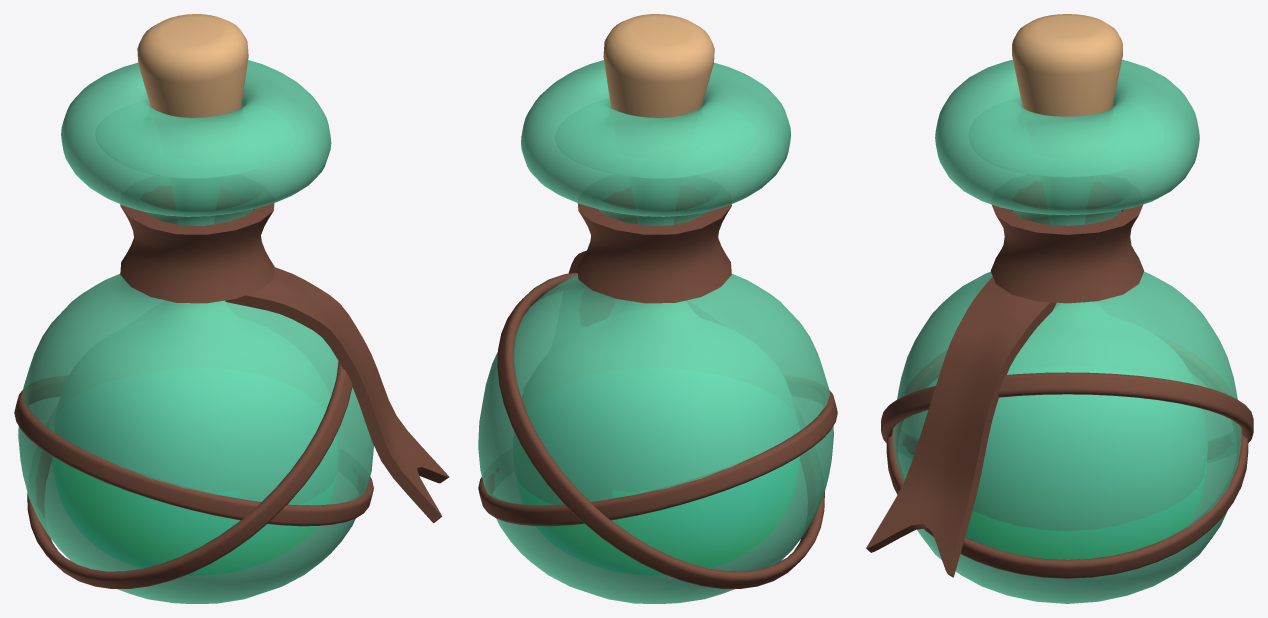
Rendered from Potion1.fbx.
The picture shows the model from 3 angles, left to right: view 1: azimuth 30°, elevation 25°; view 2: azimuth 150°, elevation 25°; view 3: azimuth 270°, elevation 25°; orthographic projection.
Parts seen in each view (by area): view 1: bottle, strip1, contents, strip2, cork, ribbon1, ribbon2; view 2: bottle, strip1, contents, ribbon1, cork, ribbon2, strip2; view 3: bottle, strip2, strip1, cork, ribbon2, ribbon1, contents.
Part boxes in pixels (x1=…): bottle: x1=18, y1=60, x2=373, y2=603; strip1: x1=120, y1=186, x2=274, y2=303; contents: x1=53, y1=426, x2=335, y2=574; strip2: x1=225, y1=267, x2=449, y2=523; cork: x1=137, y1=14, x2=248, y2=117; ribbon1: x1=27, y1=361, x2=352, y2=588; ribbon2: x1=14, y1=376, x2=373, y2=526; bottle: x1=478, y1=60, x2=833, y2=603; strip1: x1=577, y1=186, x2=731, y2=303; contents: x1=516, y1=426, x2=798, y2=574; ribbon1: x1=497, y1=272, x2=824, y2=588; cork: x1=603, y1=14, x2=714, y2=117; ribbon2: x1=478, y1=376, x2=837, y2=526; strip2: x1=568, y1=250, x2=614, y2=326; bottle: x1=893, y1=60, x2=1241, y2=603; strip2: x1=866, y1=276, x2=1059, y2=577; strip1: x1=991, y1=181, x2=1143, y2=303; cork: x1=1012, y1=14, x2=1122, y2=116; ribbon2: x1=886, y1=337, x2=1248, y2=578; ribbon1: x1=881, y1=372, x2=1253, y2=459; contents: x1=966, y1=463, x2=1206, y2=559.
Bounding box in the file's own units: 204 × 307 × 195.
